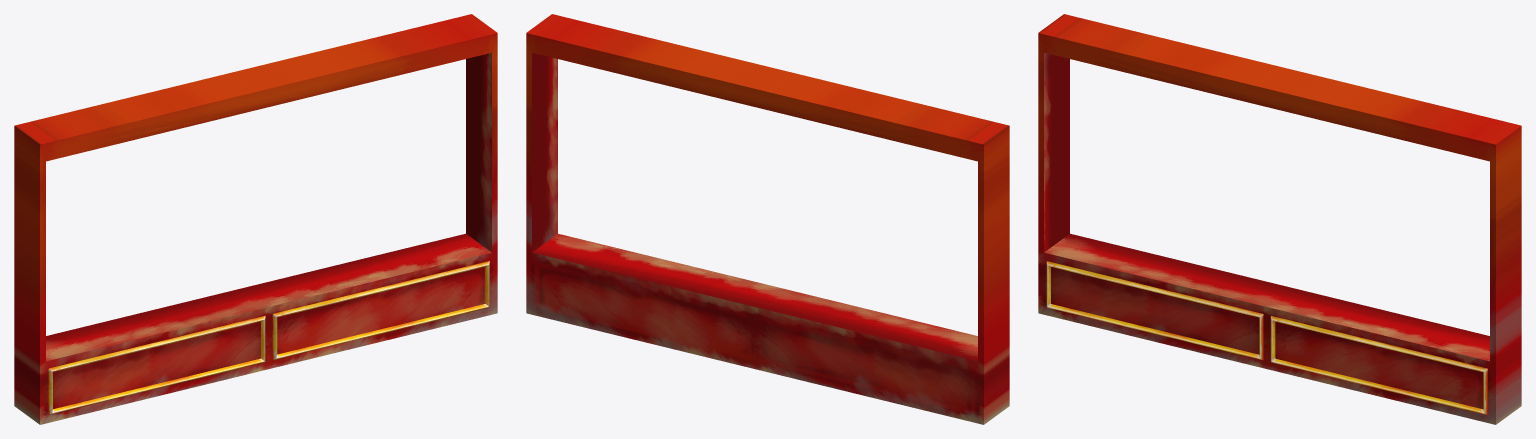
File: VagaoVermelho_JanelaSimples.fbx
3 views of the same model, side by side, from view 1: azimuth 30°, elevation 25°; view 2: azimuth 150°, elevation 25°; view 3: azimuth 330°, elevation 25° (orthographic).
Parts seen in each view (by area): view 1: VagaoVermelho_JanelaSimples; view 2: VagaoVermelho_JanelaSimples; view 3: VagaoVermelho_JanelaSimples.
Part boxes in pixels (left/top/right/bottom): VagaoVermelho_JanelaSimples: left=14, top=14, right=497, bottom=424; VagaoVermelho_JanelaSimples: left=526, top=14, right=1009, bottom=424; VagaoVermelho_JanelaSimples: left=1038, top=14, right=1521, bottom=424.
Bounding box in the file's own units: 525 × 307 × 54.33.
